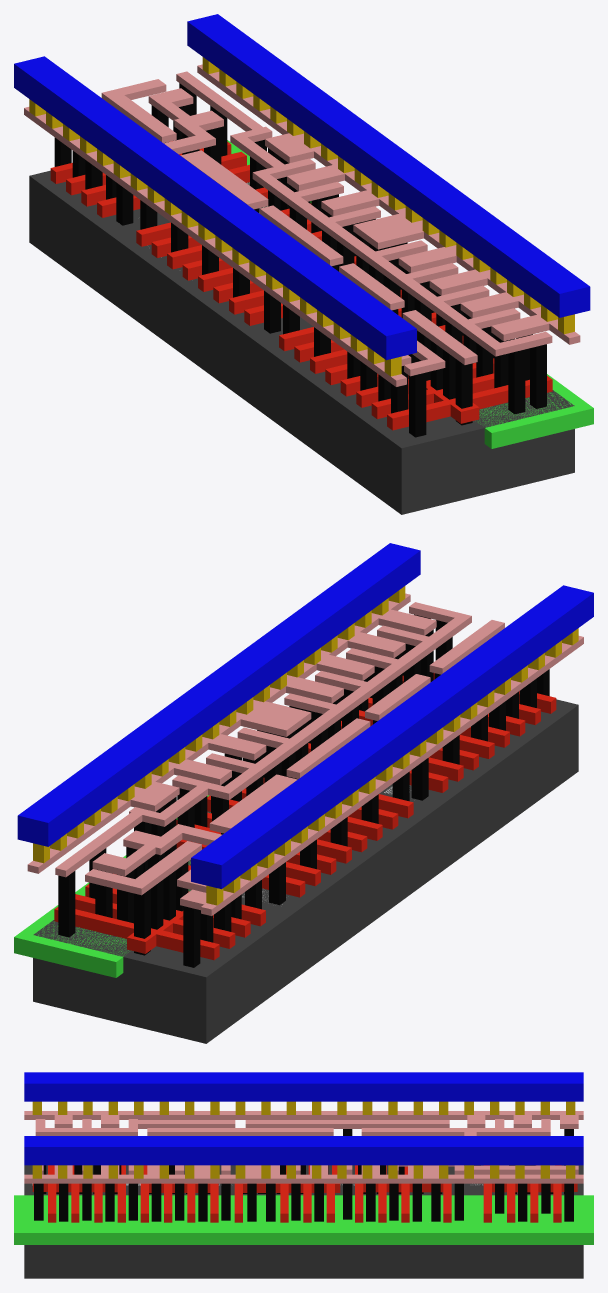
The model's file is sky130_fd_sc_hd__a41oi_4.obj.
3 renders of one model, top to bottom at view 1: azimuth 30°, elevation 25°; view 2: azimuth 150°, elevation 25°; view 3: azimuth 270°, elevation 25°, orthographic. The views are drawn at different scales.
Visible parts, largest first — view 1: subs, metal1, li, licon, poly, mcon, nwell; view 2: subs, metal1, li, licon, poly, mcon, nwell; view 3: metal1, subs, nwell, li, licon, poly, mcon.
Part boxes in pixels (<box>): subs: <box>29,170,574,514</box>; metal1: <box>14,14,590,360</box>; li: <box>24,64,580,386</box>; licon: <box>54,83,546,437</box>; poly: <box>50,141,552,430</box>; mcon: <box>29,57,574,376</box>; nwell: <box>227,140,593,448</box>; subs: <box>33,699,578,1043</box>; metal1: <box>17,543,593,889</box>; li: <box>27,593,583,915</box>; licon: <box>58,614,549,967</box>; poly: <box>54,673,556,960</box>; mcon: <box>33,586,578,905</box>; nwell: <box>14,795,209,977</box>; metal1: <box>24,1072,583,1165</box>; subs: <box>24,1165,583,1278</box>; nwell: <box>14,1195,593,1244</box>; li: <box>24,1111,583,1183</box>; licon: <box>34,1129,573,1221</box>; poly: <box>32,1165,577,1222</box>; mcon: <box>32,1101,575,1178</box>.
Bounding box in the file's own units: 3.2 × 2.74 × 10.5.
